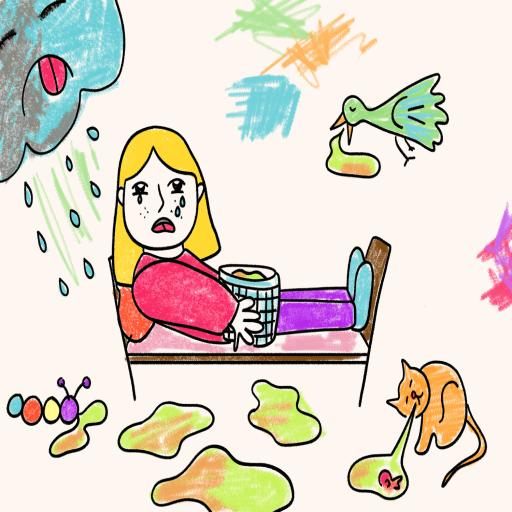person: (92, 112, 394, 418)
